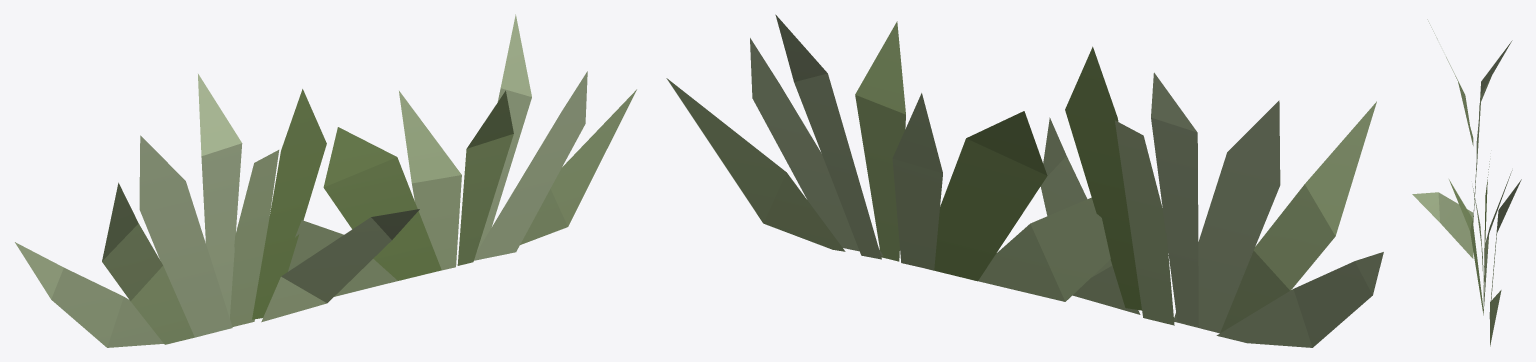
Rendered from Grass_02.fbx.
3 renders of one model, left to right at view 1: azimuth 30°, elevation 25°; view 2: azimuth 150°, elevation 25°; view 3: azimuth 270°, elevation 25°, orthographic. The views are drawn at different scales.
Visible parts, largest first — view 1: grass-long.004; view 2: grass-long.004; view 3: grass-long.004.
Boxes of the visible parts, <box> form: grass-long.004: <box>15,14,636,347</box>; grass-long.004: <box>666,14,1383,347</box>; grass-long.004: <box>1412,19,1521,346</box>.
Bounding box in the file's own units: 201 × 73.94 × 40.12.
